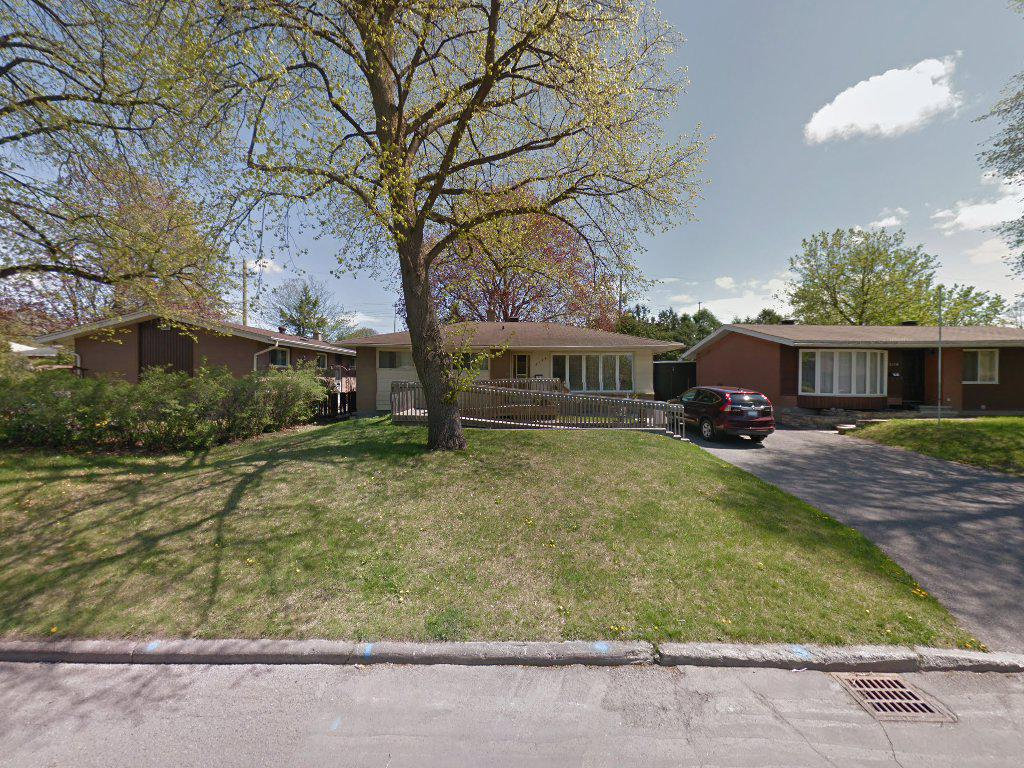trunk: (395, 240, 471, 462)
